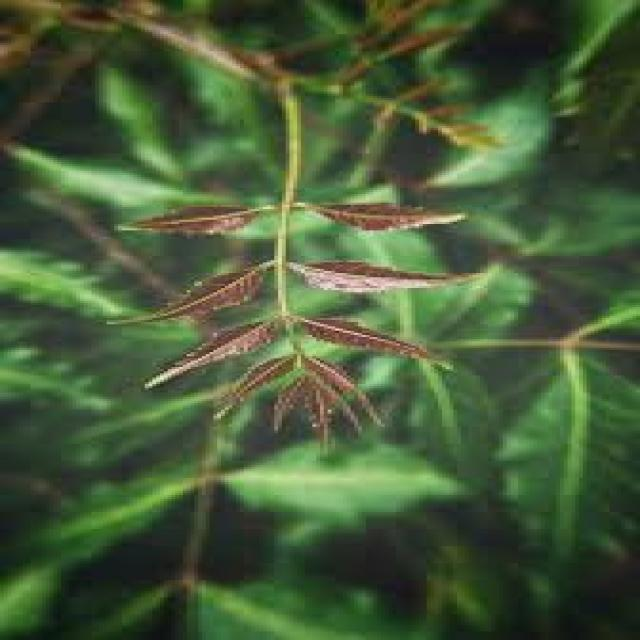Neem-Tree: (112, 169, 496, 446)
